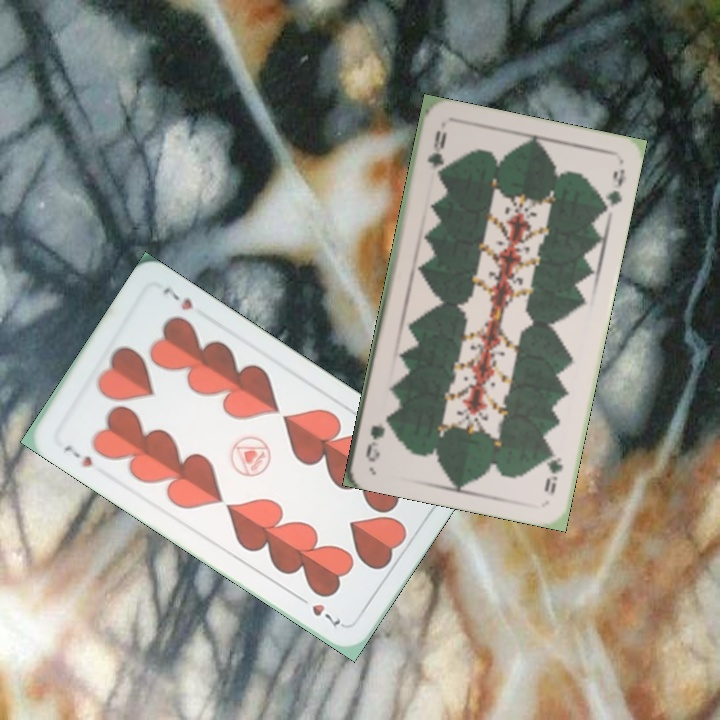G9: (540, 442, 566, 496), (423, 127, 449, 179)
H7: (60, 440, 95, 470)
